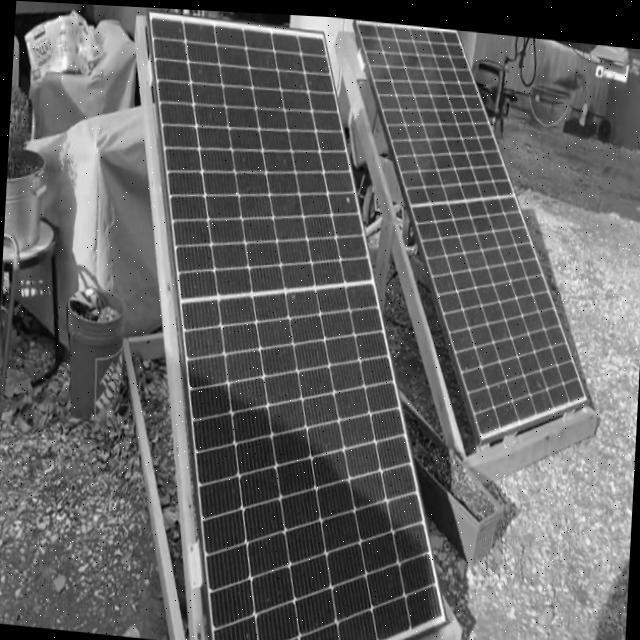Normal Solar Panel: (118, 9, 472, 640), (337, 18, 607, 446)
